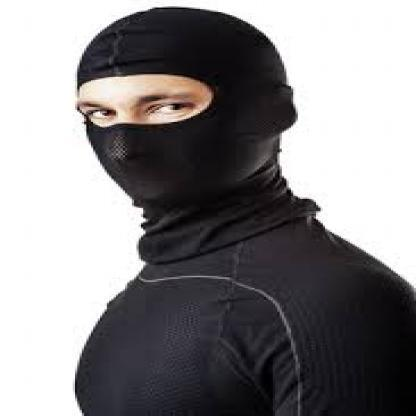criminal: (74, 6, 416, 416)
